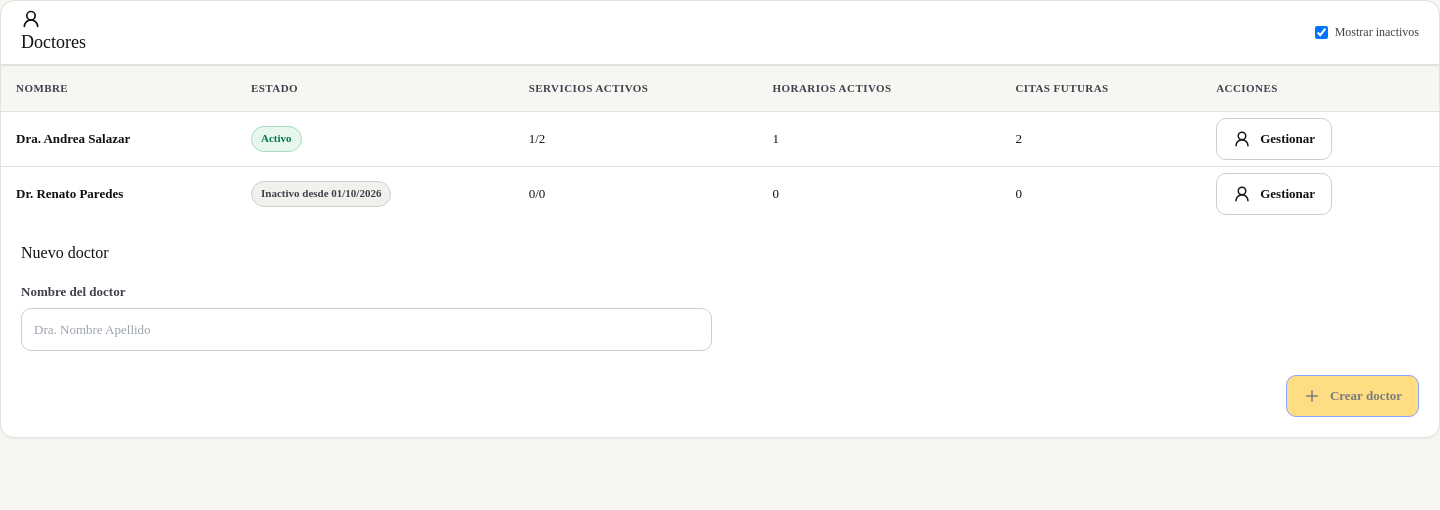
PractitionersPanel · management › creates a doctor with an idempotency key and reads the roster again
Type "  Dra. Camila Vega " into the field labelled "Nombre del doctor" at (366, 330), box [21,308,712,351]
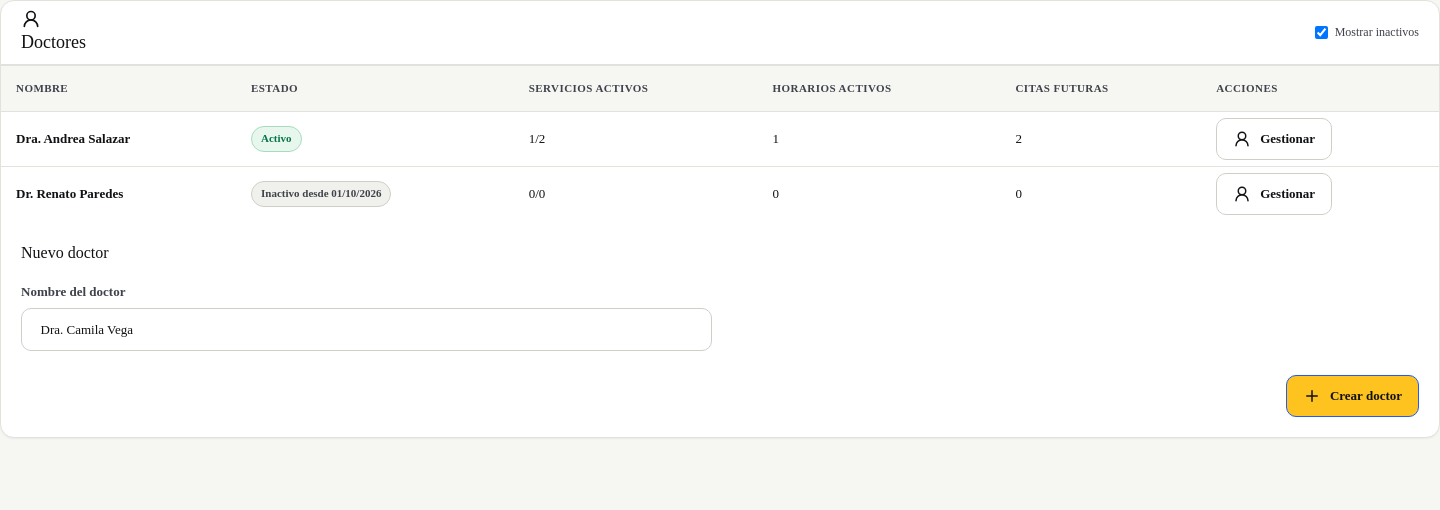
Submit the form, box [1,220,1439,437]
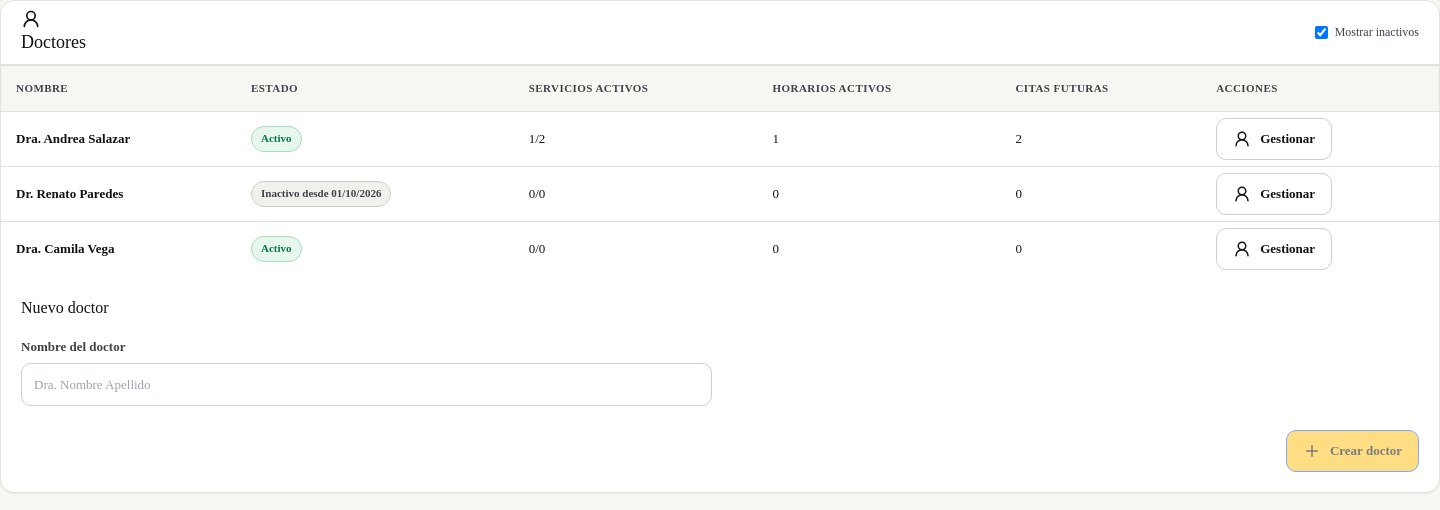
Result: the text "Dra. Camila Vega" is shown at [16,241,115,256]
